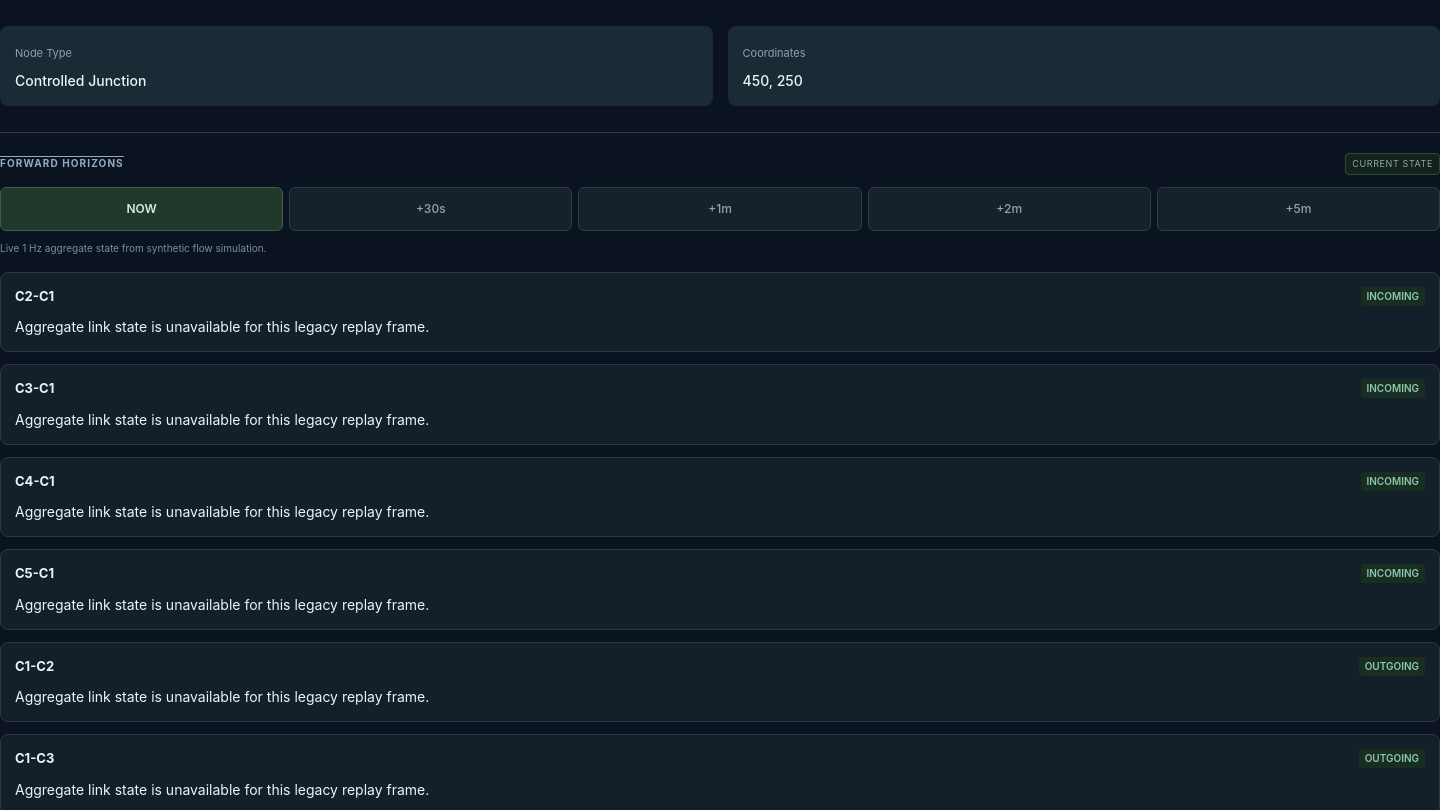
Test case: Epic 4 (S11 & S12): Forecasts, Platoons & Spillback Intelligence › Story S11: renders bounded forecasts across horizons with queue, storage and arrivals
# Click on +1m tab (60s)
Click the button "+1m": coordinates (720, 208) [578,186,862,230]
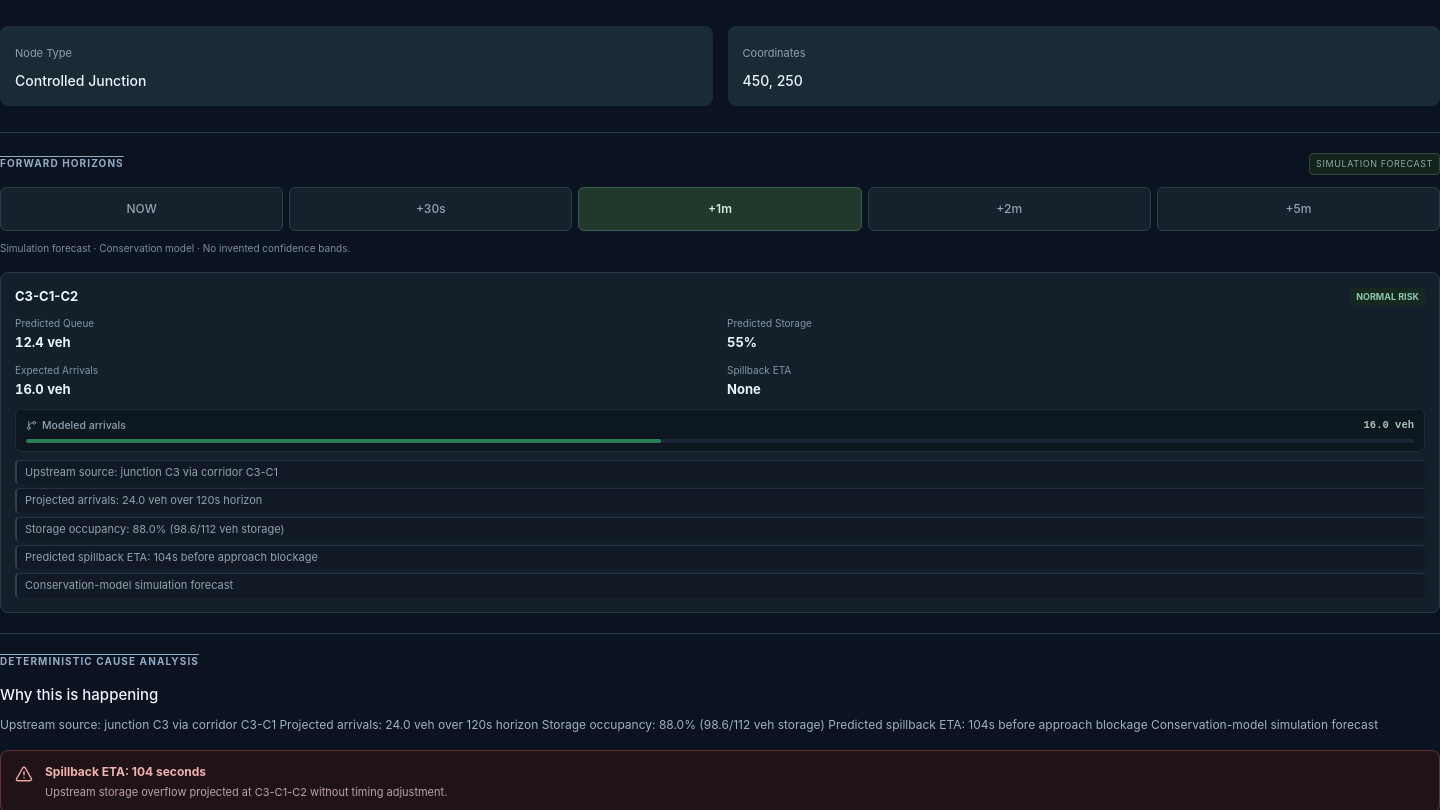
Check: the text "Predicted Queue" is shown, box [15,317,94,329]
Check: the text "12.4 veh" is shown, box [15,334,71,350]
Check: the text "55%" is shown, box [727,334,757,350]
# Click on +5m tab (300s)
Click the button "+5m": coordinates (1298, 208) [1157,186,1439,230]
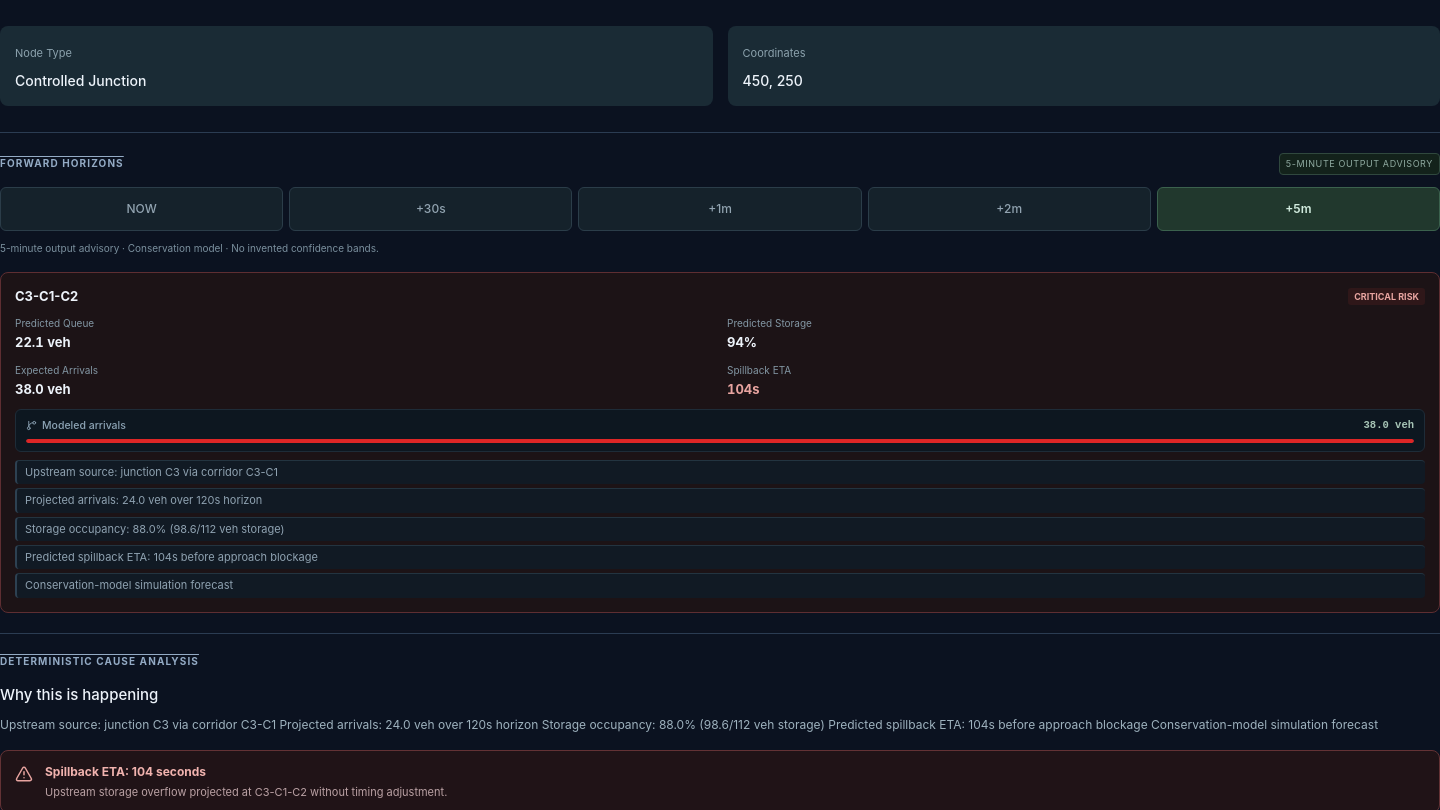
Check: the text "22.1 veh" is shown, box [15,334,71,350]
Check: the text "94%" is shown, box [727,334,757,350]
Check: the text "CRITICAL RISK" is shown, box [1348,288,1425,305]
